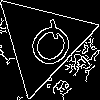Q: (17, 17, 79, 79)
